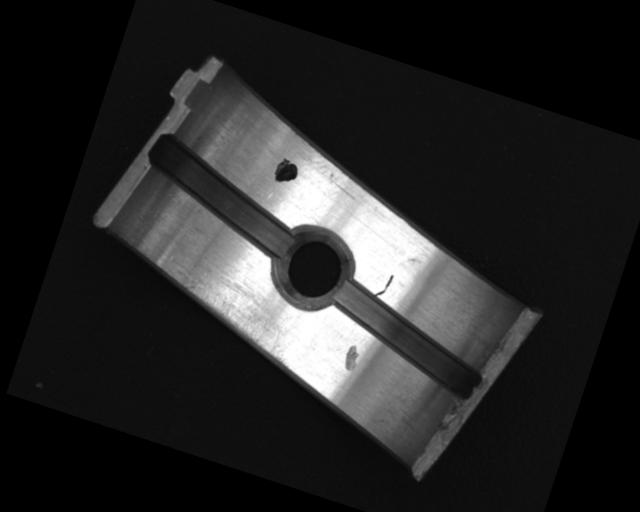blot: (270, 154, 302, 188)
bruise: (340, 341, 363, 374)
gap: (131, 132, 315, 260), (317, 278, 497, 403)
hole: (262, 220, 364, 321)
nick: (373, 271, 394, 300)
scratch: (156, 264, 310, 370)
